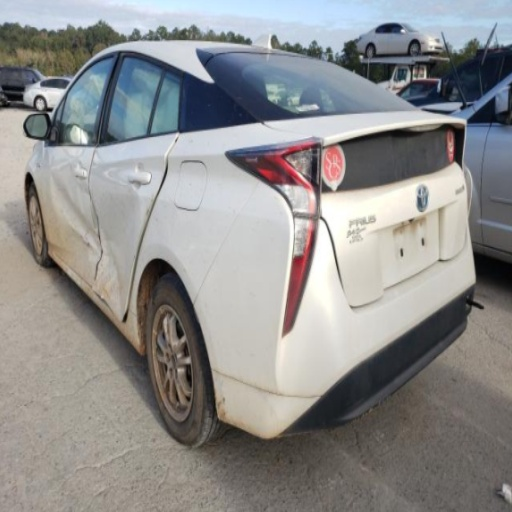dent: (89, 146, 144, 318), (44, 147, 102, 287)
rust: (48, 251, 139, 352), (152, 305, 193, 420), (138, 261, 155, 354), (215, 396, 243, 428), (100, 283, 108, 299)
scratch: (80, 229, 90, 246)
